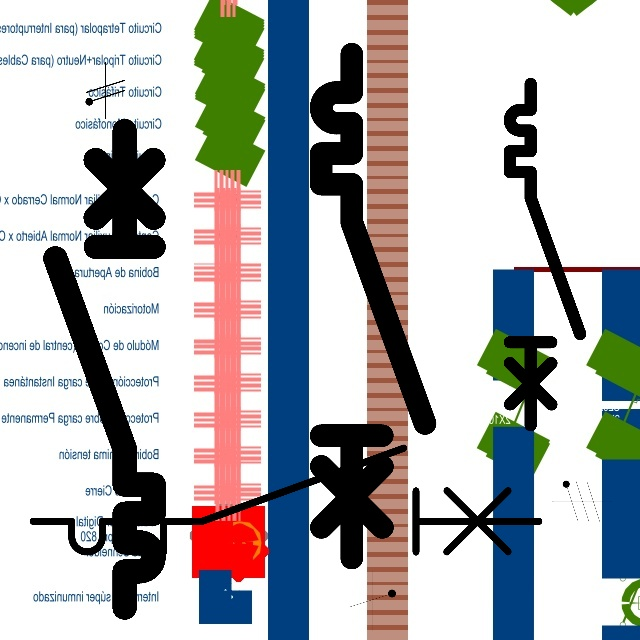interruptor_termomagnetico: (20, 435, 552, 565), (308, 41, 437, 571), (43, 118, 166, 619), (501, 75, 589, 434)
